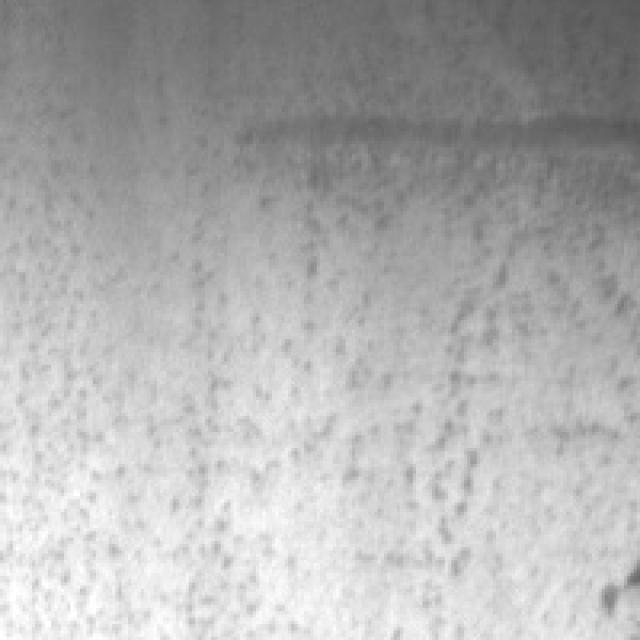pitted_surface: (3, 19, 630, 634)
